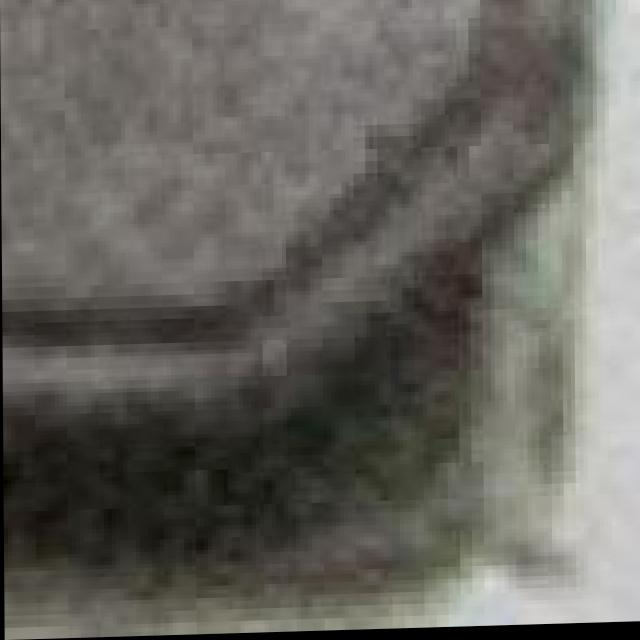inductor: (0, 0, 639, 568)
